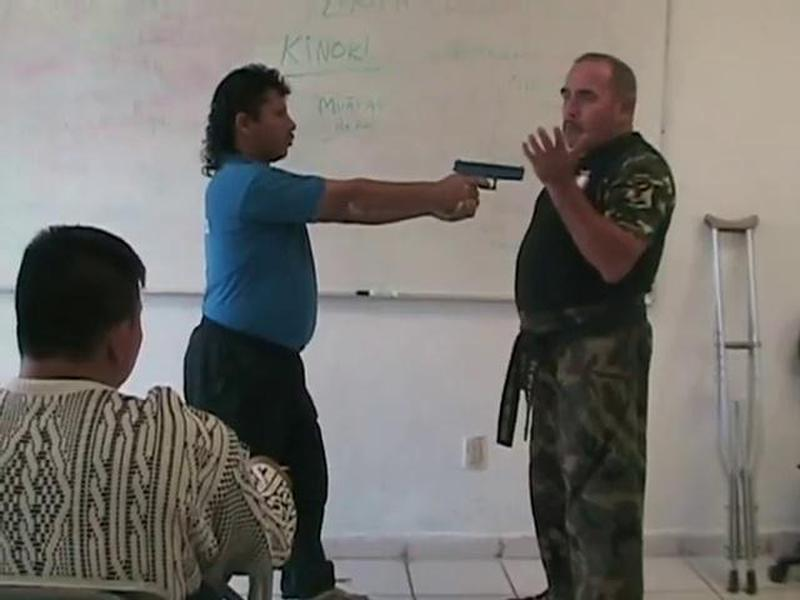Pistola: (434, 143, 536, 230)
